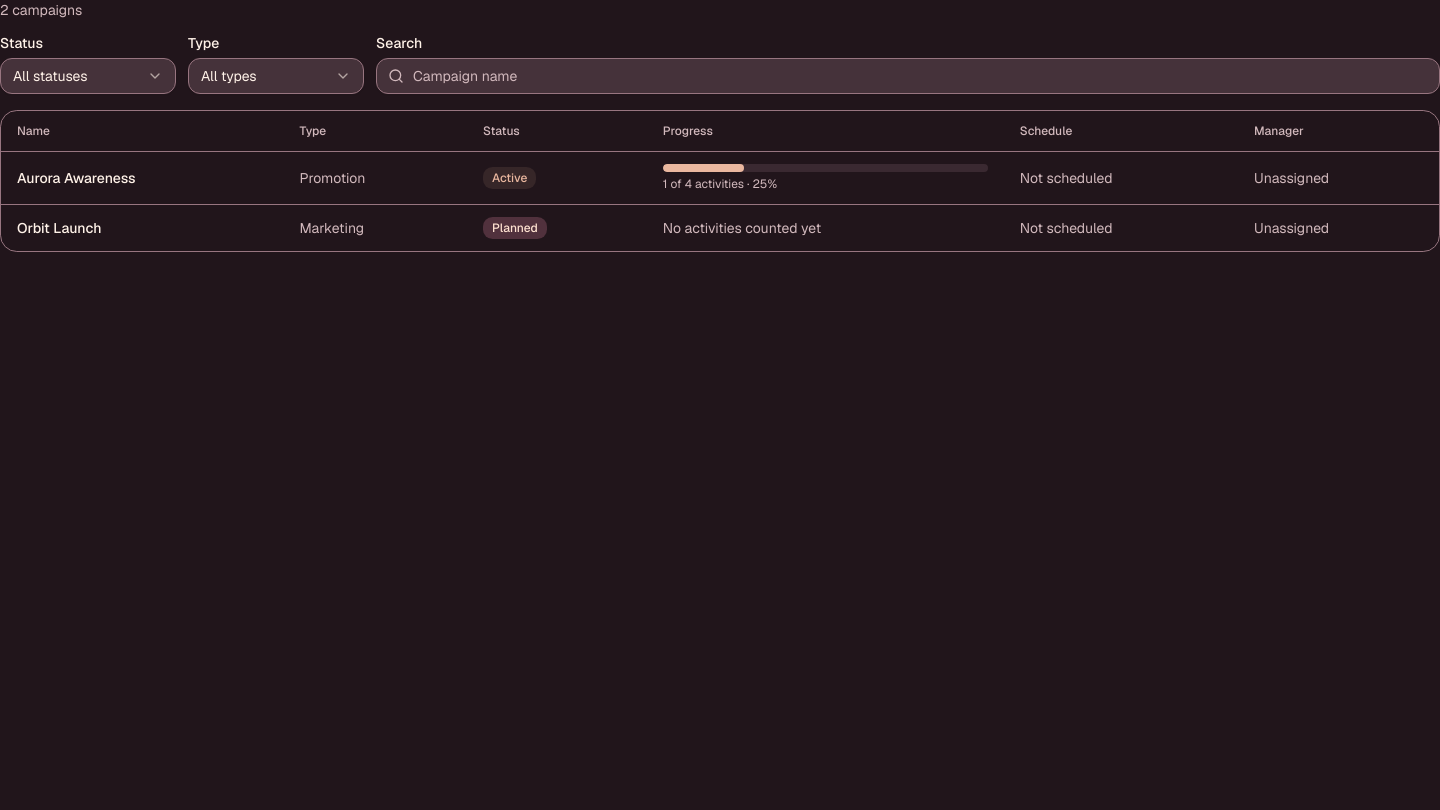
it: CampaignsManager API integration › detail › does not request the budget for a caller without budget access
This screenshot has width=1440, height=810.
Click the button "Aurora Awareness".
click(76, 178)  # box [17,168,136,188]
(page scrolled)
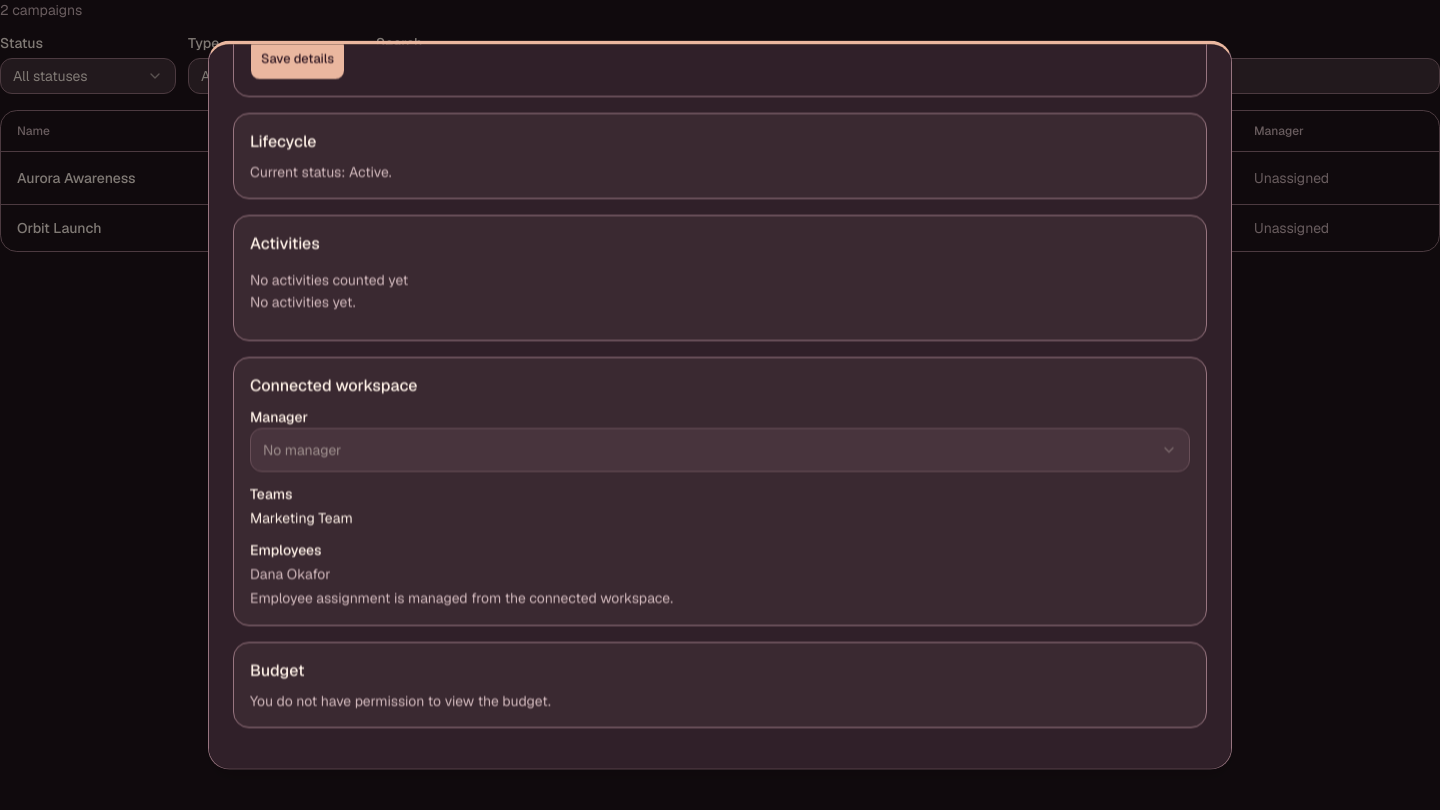
Check: the text "You do not have permission to view the budget." is shown, box [250,693,551,711]
